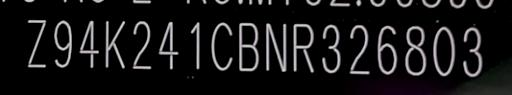letter: (347, 22, 373, 75), (291, 22, 317, 73), (263, 22, 289, 71), (24, 18, 48, 69), (156, 19, 180, 70), (236, 21, 260, 72), (374, 24, 398, 75), (404, 24, 428, 75), (432, 25, 456, 76), (210, 21, 234, 70), (132, 20, 154, 71), (320, 22, 342, 73), (462, 26, 484, 77), (52, 19, 74, 68), (104, 20, 126, 69), (78, 20, 100, 69), (186, 21, 204, 70)
